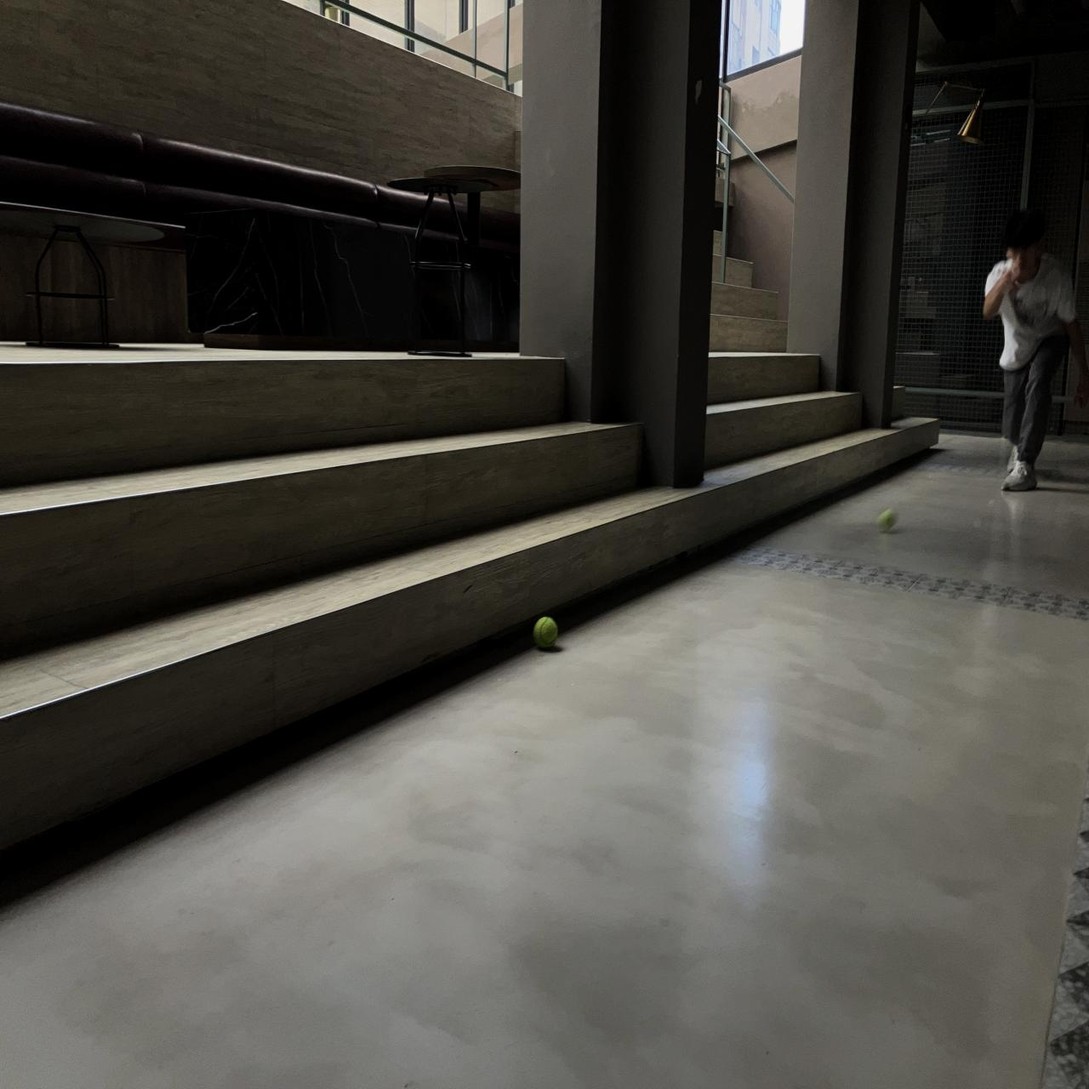person: (984, 210, 1088, 490)
tennisball: (533, 616, 559, 649), (877, 510, 898, 533)
